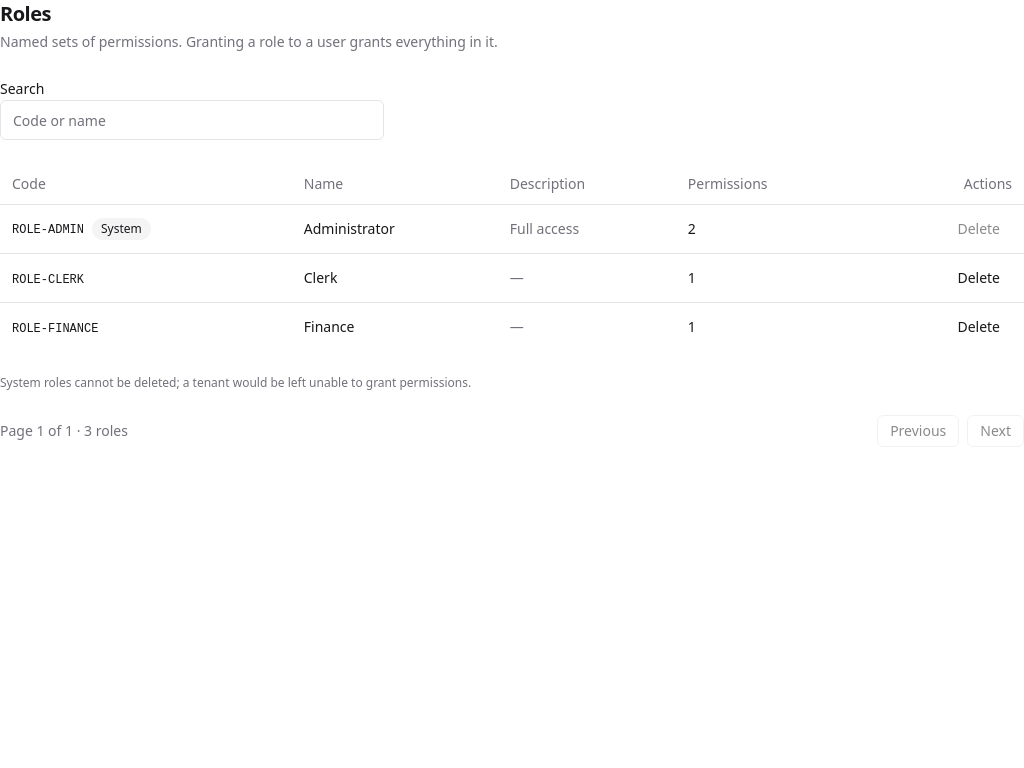
it: RoleListPage › reassigning a listed task (#512) › offers no reassign without workflow:task:reassign
Click the button "Delete" in the row of "ROLE-CLERK" at (979, 278), box [945, 262, 1012, 294]
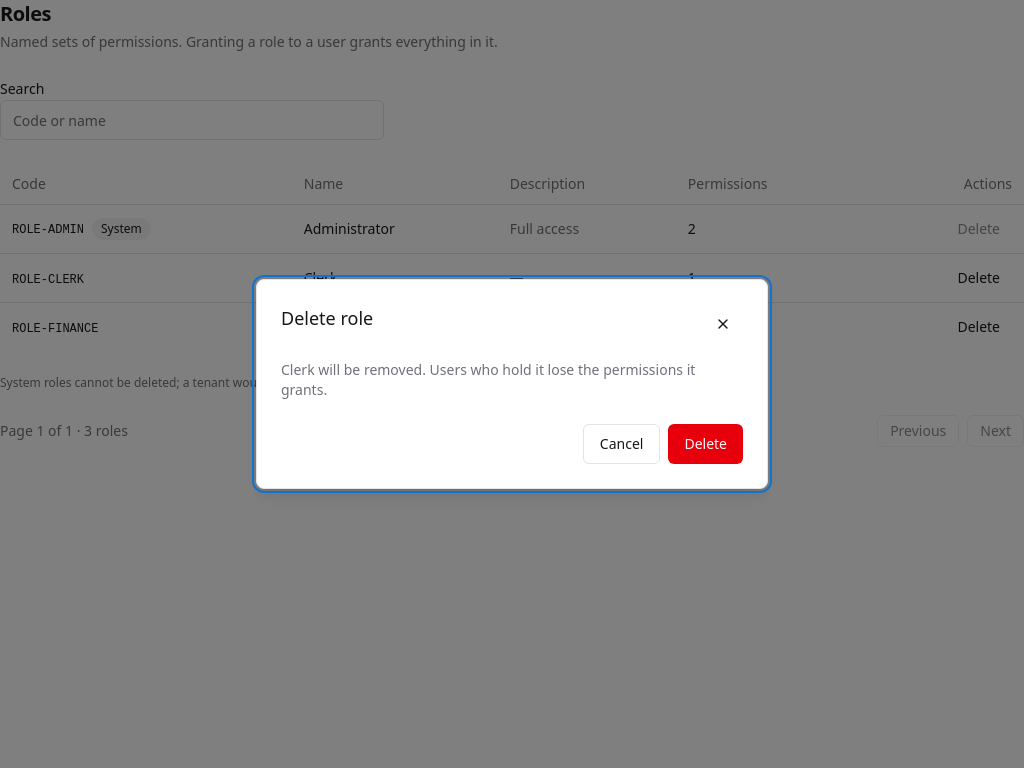
Click the button "Delete" at (706, 444), box [668, 424, 743, 464]
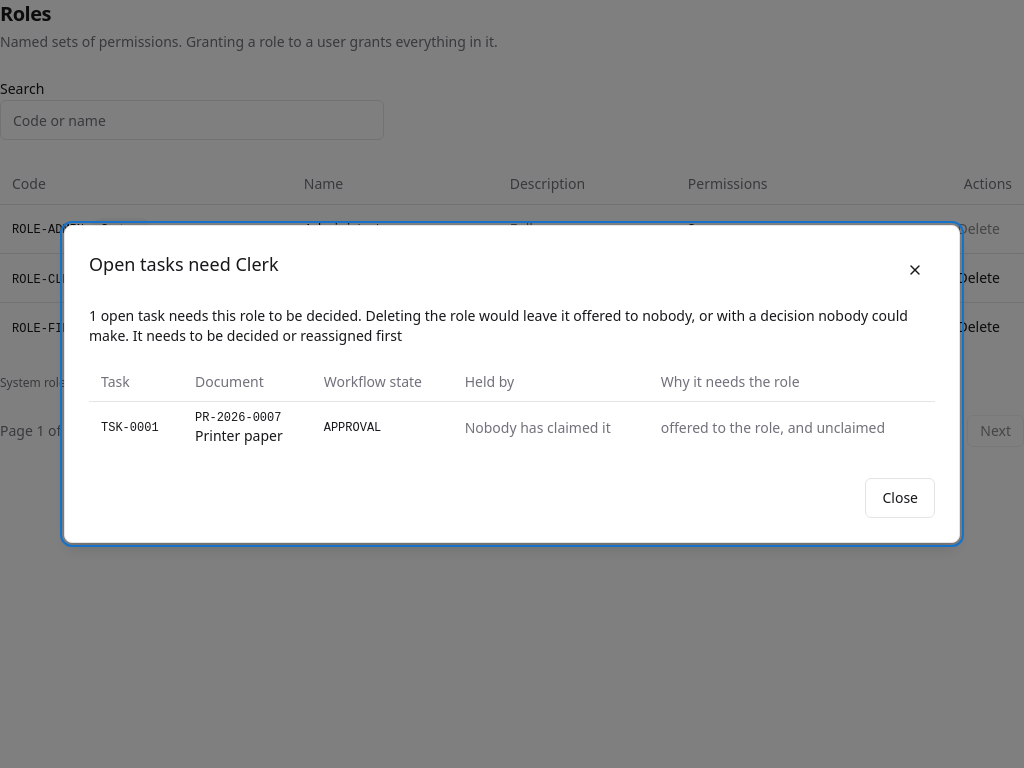
Expected: the text "Actions" is not shown
Now the row with test id "role-open-task" is shown, box [89, 402, 935, 454]
